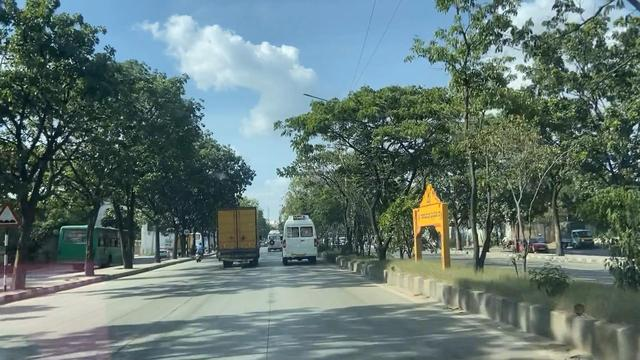HMV: (208, 207, 263, 270), (282, 212, 321, 261)
